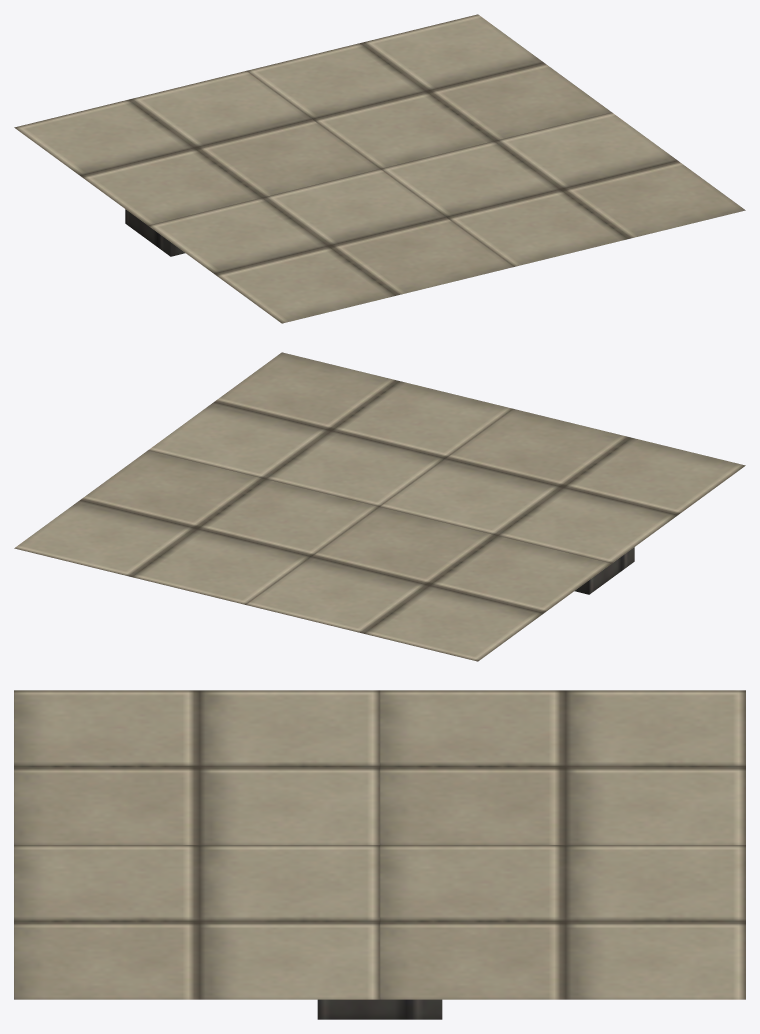
File: ceiling_corridor.fbx
The picture shows the model from 3 angles, top to bottom: view 1: azimuth 30°, elevation 25°; view 2: azimuth 150°, elevation 25°; view 3: azimuth 270°, elevation 25°; orthographic projection. The views are drawn at different scales.
Visible parts, largest first — view 1: ceiling_corridor; view 2: ceiling_corridor; view 3: ceiling_corridor.
Part boxes in pixels (x1,y1,x2,y2): ceiling_corridor: [14, 14, 745, 323]; ceiling_corridor: [14, 352, 745, 661]; ceiling_corridor: [14, 690, 745, 1019].
Size of the model in its own units: 2 by 0.06 by 2.
